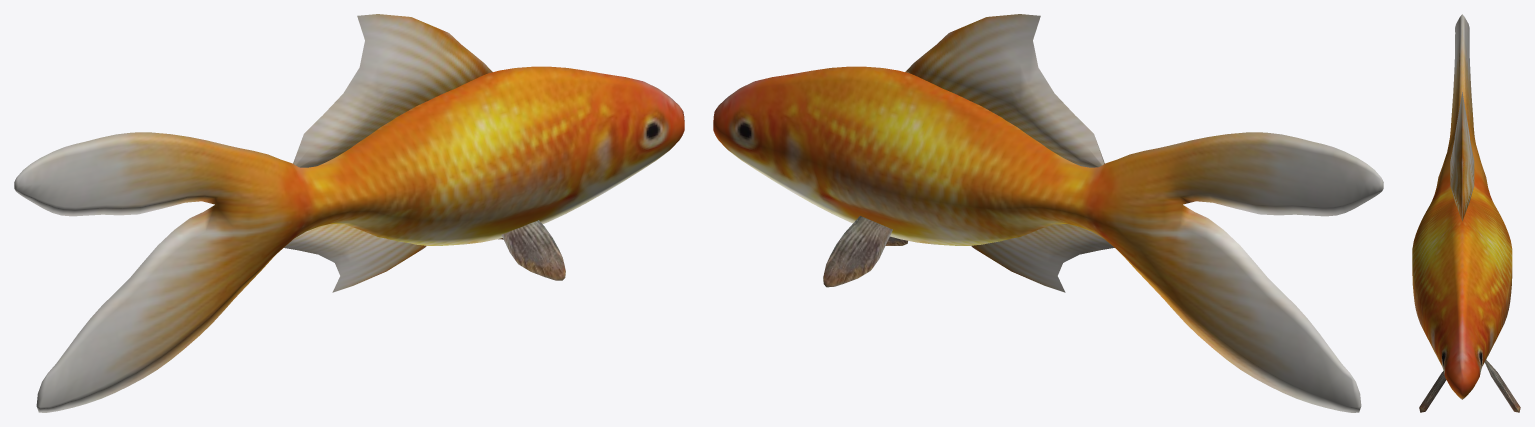
Rendered from Fish 11.fbx.
3 views of the same model, side by side, from view 1: azimuth 30°, elevation 25°; view 2: azimuth 150°, elevation 25°; view 3: azimuth 270°, elevation 25° (orthographic). The views are drawn at different scales.
Visible parts, largest first — view 1: Fish_11; view 2: Fish_11; view 3: Fish_11.
Boxes of the visible parts, x1,y1,x2,y2 form: Fish_11: (14, 14, 684, 412); Fish_11: (713, 14, 1383, 412); Fish_11: (1412, 14, 1520, 412).
Bounding box in the file's own units: 6.7 × 3.08 × 1.1.
1 material, 1 textured.
